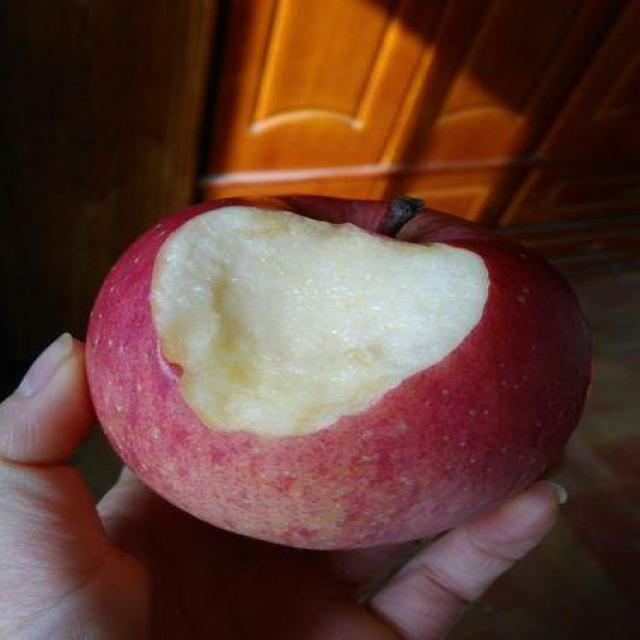Rotten: (76, 184, 602, 550)
